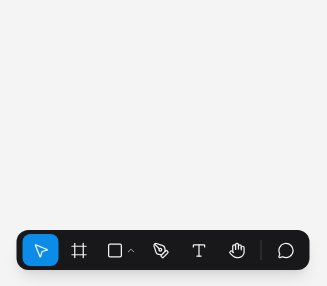
BottomToolbar › opens the flyout exposing every shape tool with accessible labels
Step 1. Click the button with test id "tool-shape" → (120, 250), box [98,234,140,266]
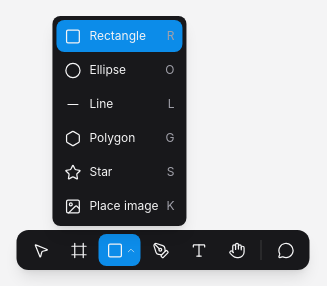
Now the menu item labelled "Polygon G" is shown, box [56,122,182,154]
Now the menu item labelled "Place image K" is shown, box [56,190,182,222]
Now the menu item with test id "tool-star" is shown, box [56,156,182,188]
